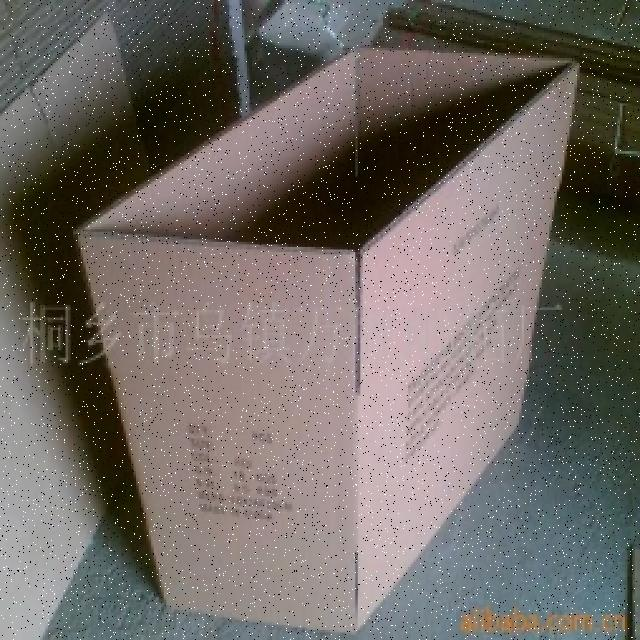box: (80, 15, 556, 640)
